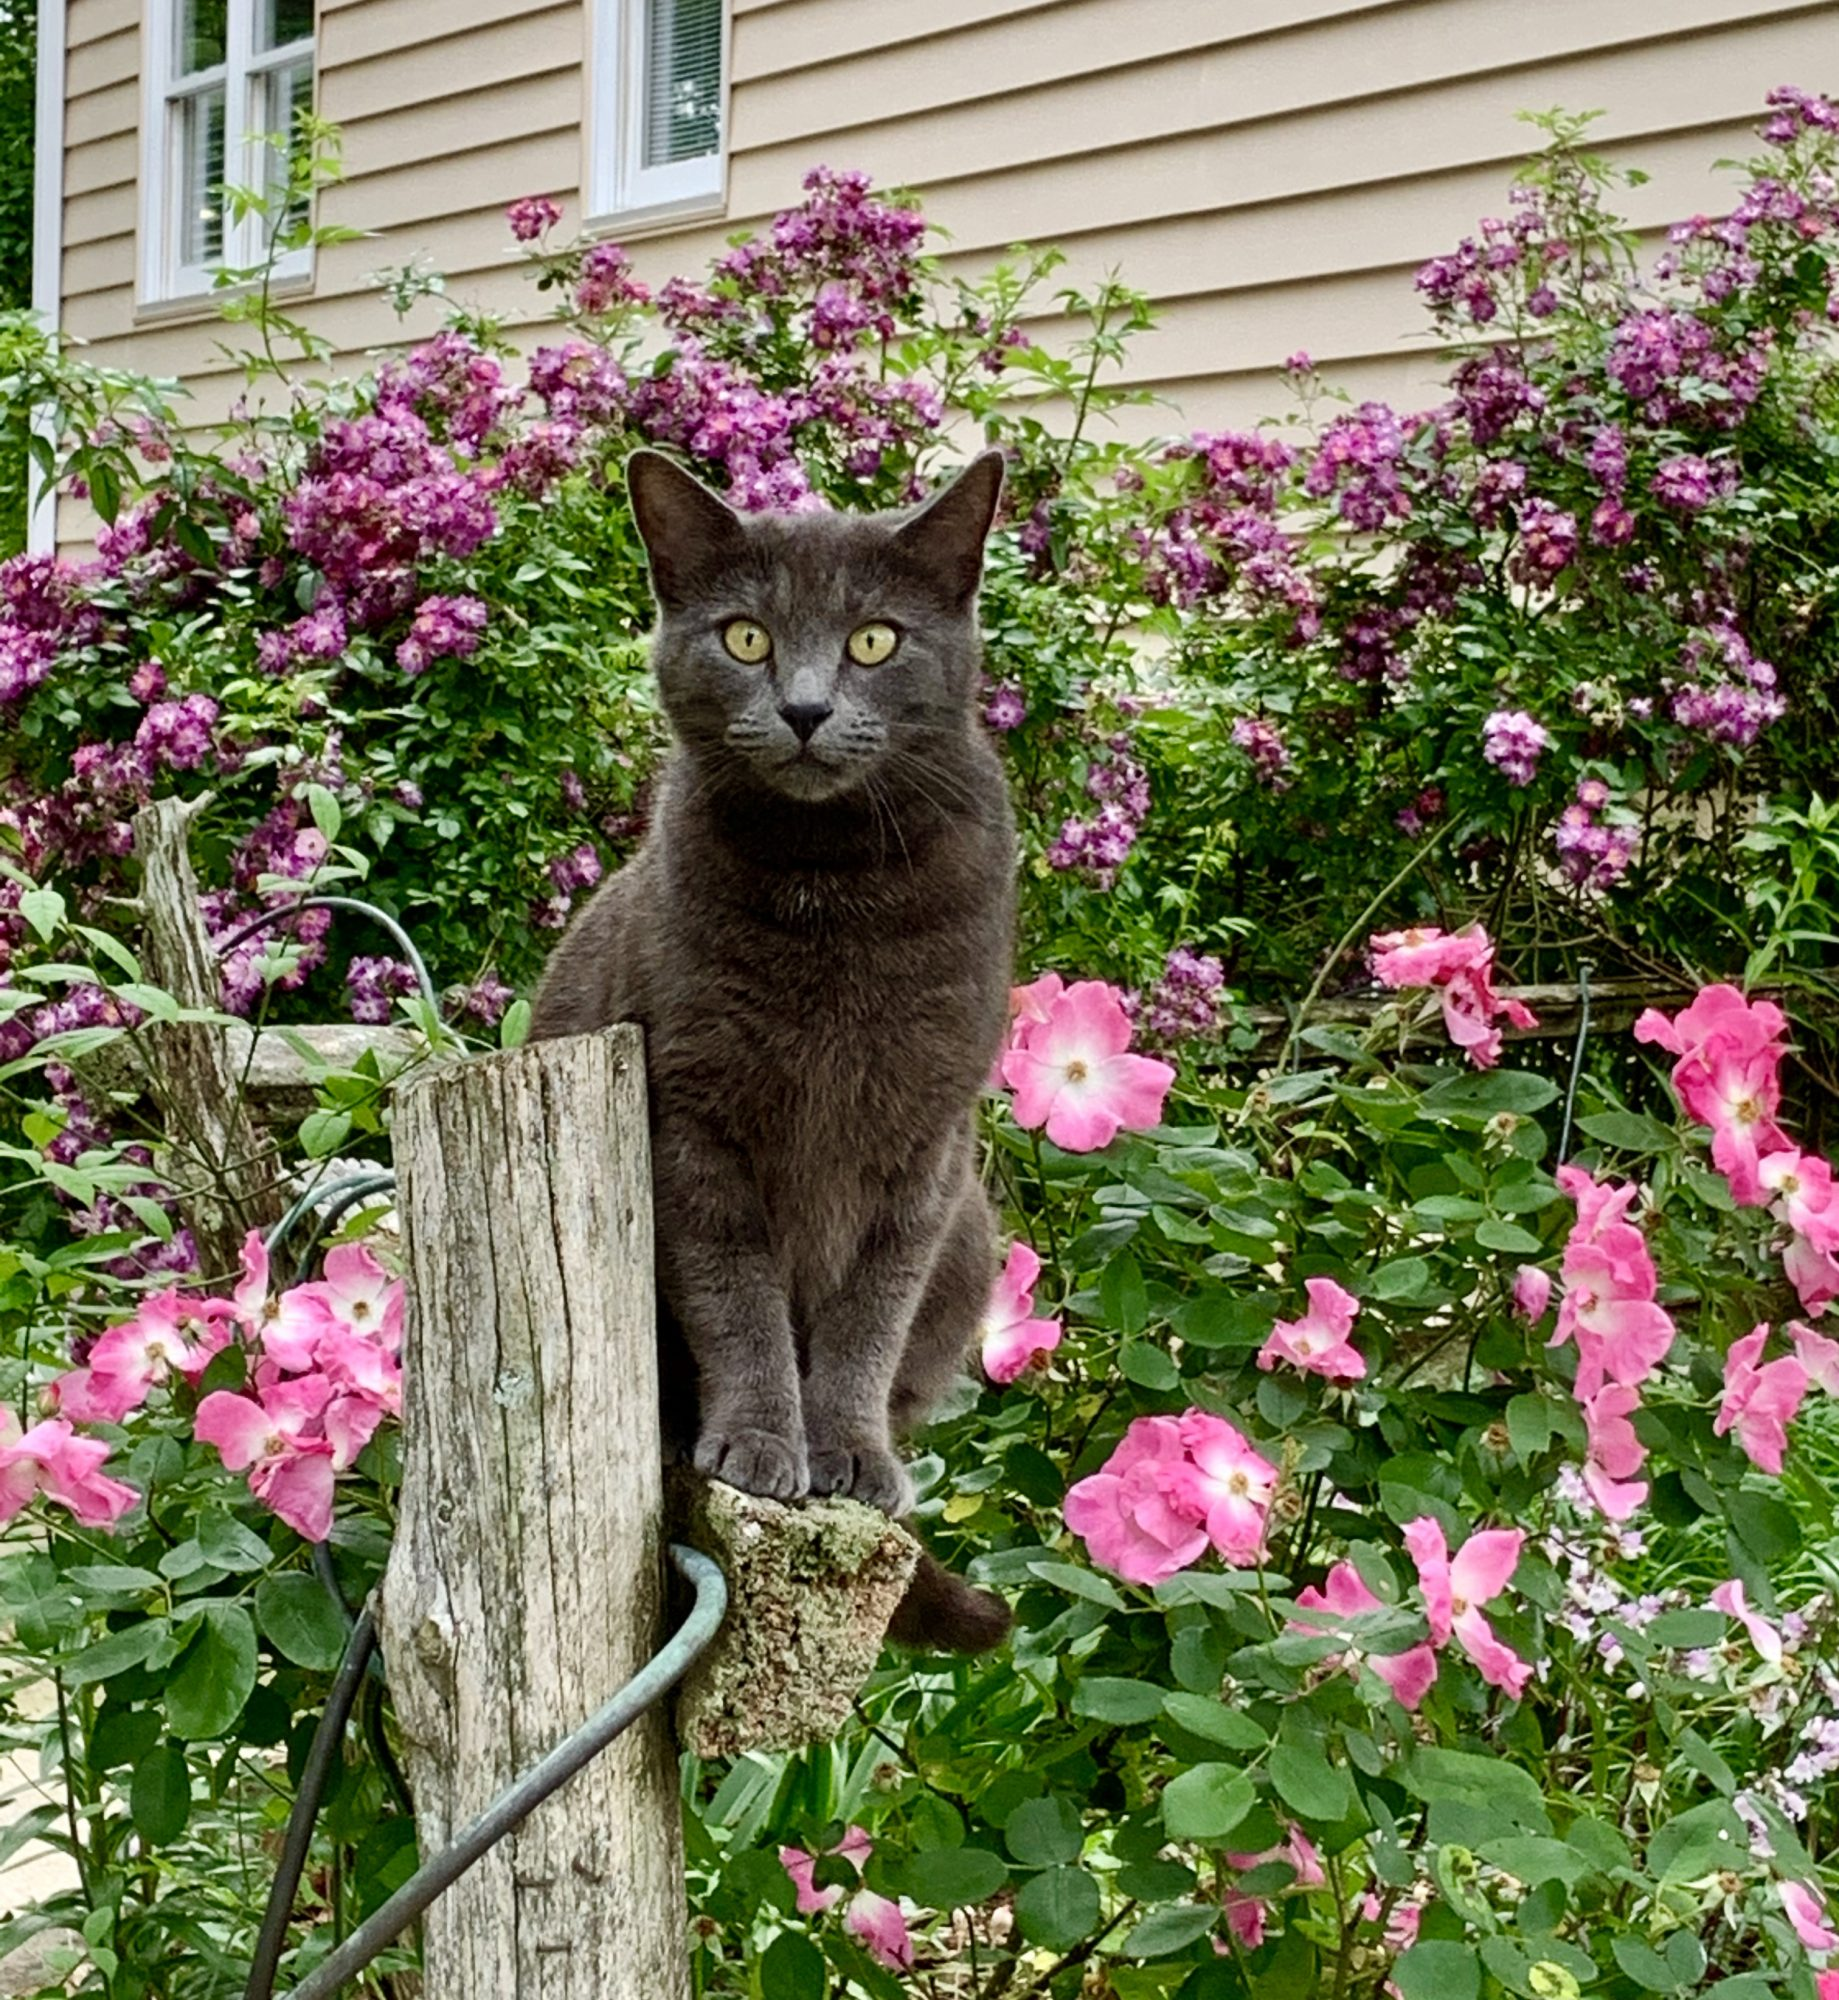cat: (521, 451, 1008, 1497)
